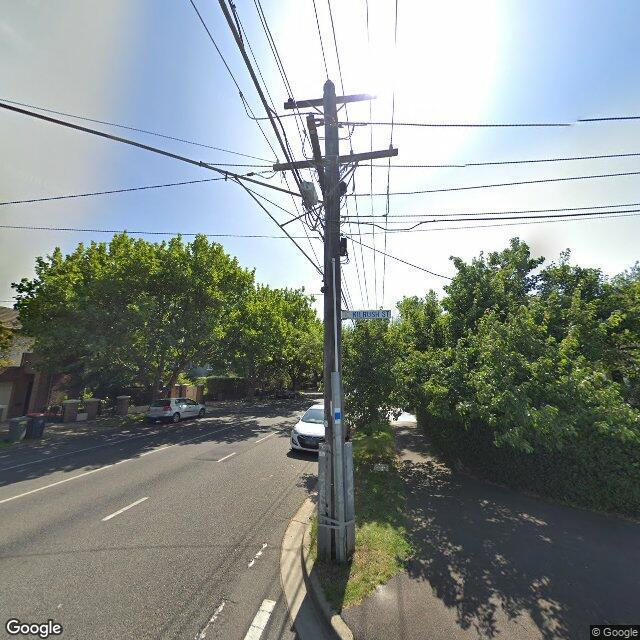crossarm: (274, 147, 399, 172), (307, 112, 326, 198), (283, 94, 377, 110)
streetlight: (0, 101, 327, 207)
timber-pole: (316, 78, 355, 565)
